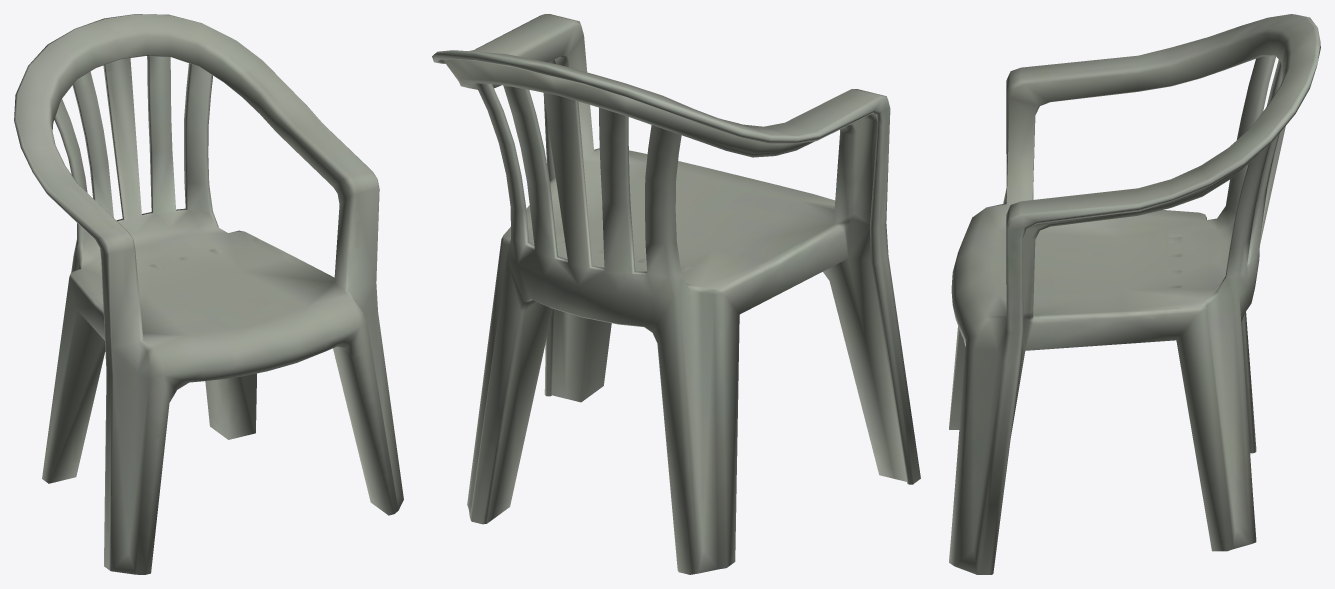
3 views of the same model, side by side, from view 1: azimuth 30°, elevation 25°; view 2: azimuth 150°, elevation 25°; view 3: azimuth 270°, elevation 25° (orthographic). The views are drawn at different scales.
Bounding box in the file's own units: 7.32 × 9.66 × 7.18.
Materials: 1 (1 with a texture image).
